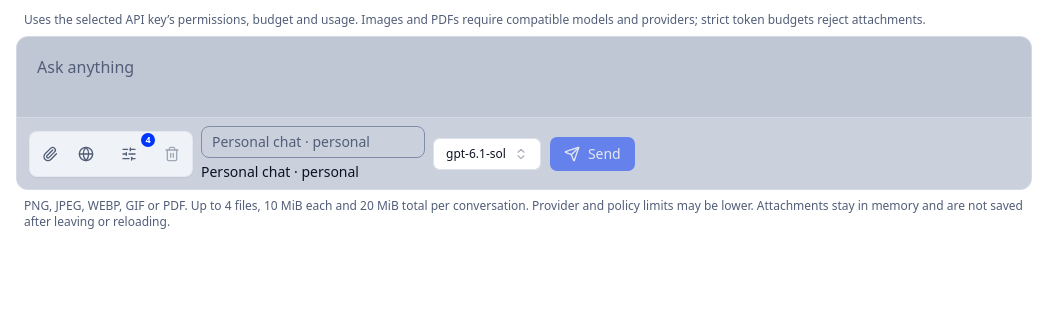
Test: strict budget rejection with stream=false › explains unsupported text-only requirements and preserves the draft and key without retrying
In the text box named "Message": point(524, 77) left=17, top=37, right=1031, bottom=117, type "Keep this question"
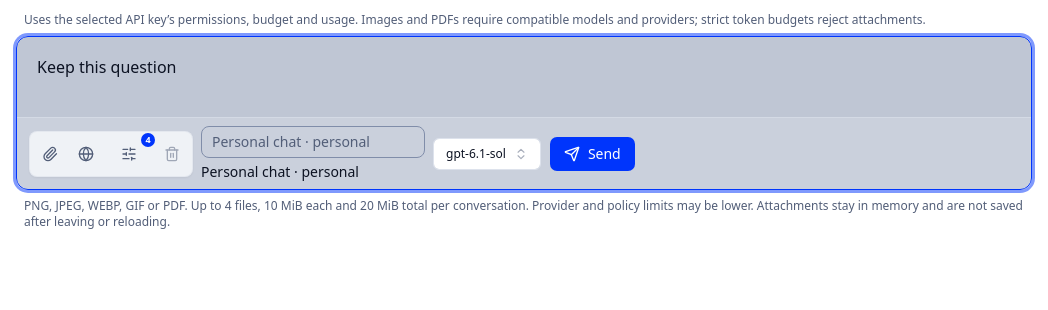
Expected: the button "Send" is enabled
Click the button "Send": point(592, 154) left=549, top=136, right=636, bottom=172
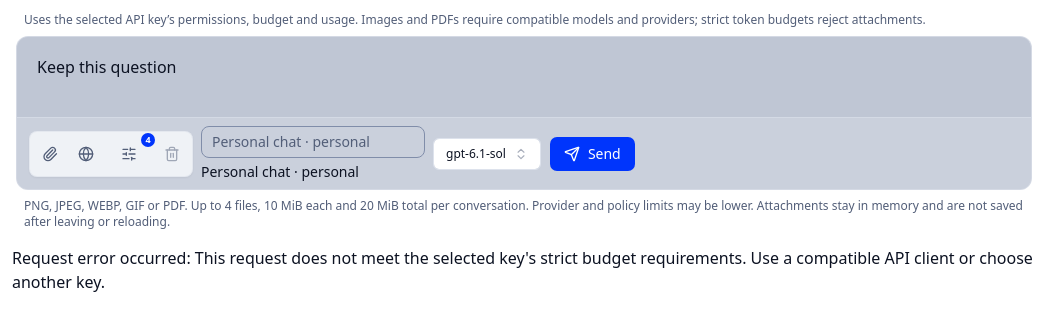
Expected: the dropdown named "API key" shows "Personal chat · personal", left=201, top=126, right=425, bottom=158
Expected: the button "Send" is enabled, left=549, top=136, right=636, bottom=172
Expected: the text named "Assistant response" shows "This request does not meet the selected key's strict budget requirements. Use a compatible API client or choose another key.", left=12, top=247, right=1033, bottom=293
